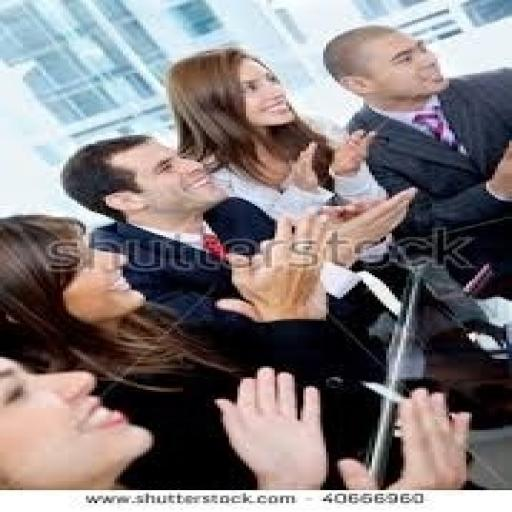clapping: (0, 178, 415, 412), (41, 98, 460, 319), (0, 312, 454, 511), (118, 34, 414, 282), (309, 13, 512, 328)
